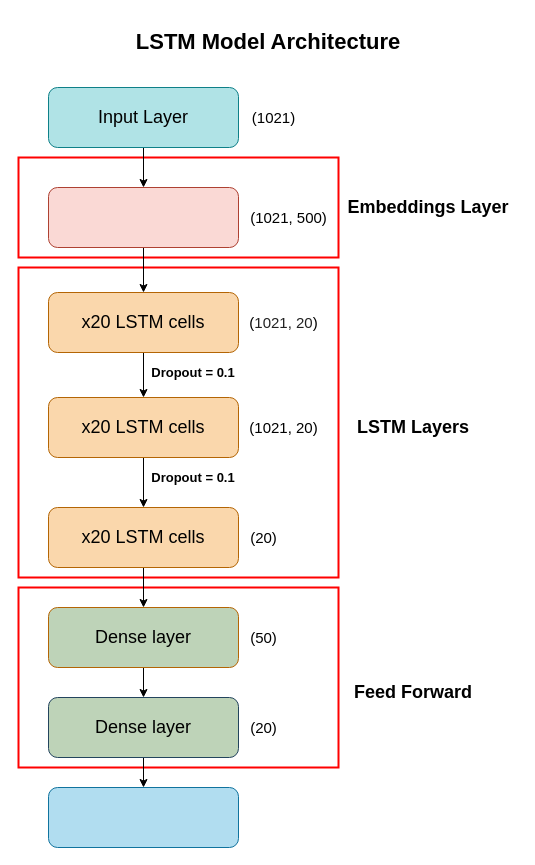
This 535x865 diagram has some shape labels left out. The shapes that lost their labels are listed below. From the top down, each one's centre as x and y in pixels, then its label:
At (x=143, y=217): "Embeddings".
At (x=143, y=817): "Output".
